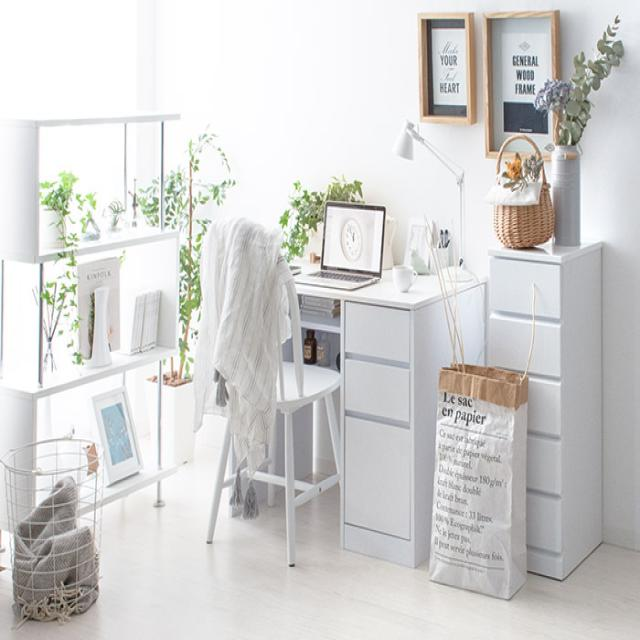white chair: (205, 233, 338, 552)
white shelf: (482, 238, 599, 570)
